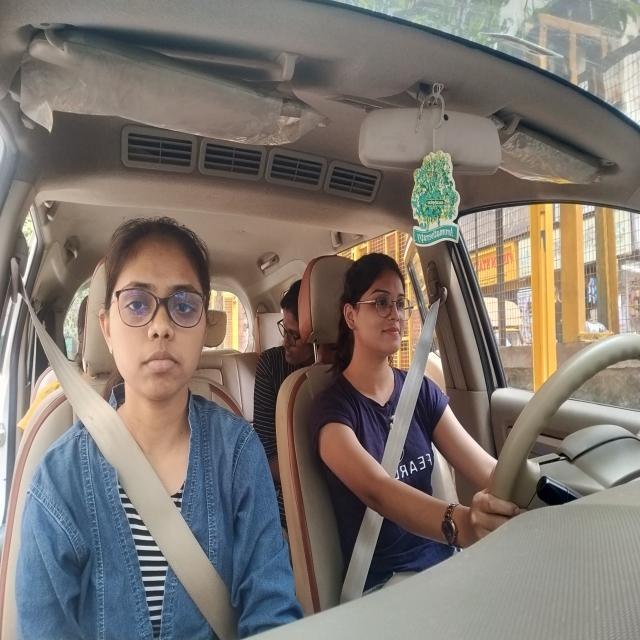person: (98, 210, 215, 414), (342, 249, 411, 364), (274, 278, 309, 376)
